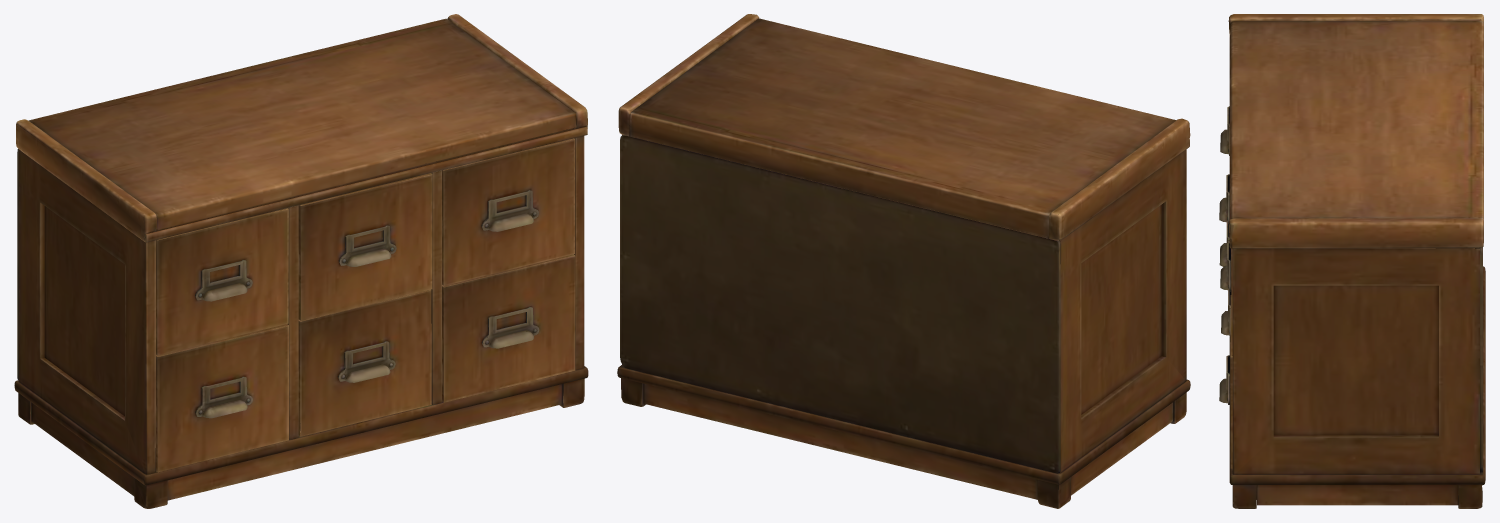
File: vintage_wooden_drawer_01.glb
The picture shows the model from 3 angles, left to right: view 1: azimuth 30°, elevation 25°; view 2: azimuth 150°, elevation 25°; view 3: azimuth 270°, elevation 25°; orthographic projection. The views are drawn at different scales.
Parts seen in each view (by area): view 1: vintage_wooden_drawer_01_body, vintage_wooden_drawer_01_drawer02, vintage_wooden_drawer_01_drawer06, vintage_wooden_drawer_01_drawer04, vintage_wooden_drawer_01_drawer03, vintage_wooden_drawer_01_drawer05, vintage_wooden_drawer_01_drawer01; view 2: vintage_wooden_drawer_01_body; view 3: vintage_wooden_drawer_01_body, vintage_wooden_drawer_01_drawer06, vintage_wooden_drawer_01_drawer03, vintage_wooden_drawer_01_drawer02.
Boxes of the visible parts, x1,y1,x2,y2 form: vintage_wooden_drawer_01_body: (14,14,588,508); vintage_wooden_drawer_01_drawer02: (298,173,432,320); vintage_wooden_drawer_01_drawer06: (442,254,575,402); vintage_wooden_drawer_01_drawer04: (156,324,288,472); vintage_wooden_drawer_01_drawer03: (442,138,575,285); vintage_wooden_drawer_01_drawer05: (298,289,431,436); vintage_wooden_drawer_01_drawer01: (156,208,288,355); vintage_wooden_drawer_01_body: (617,14,1190,508); vintage_wooden_drawer_01_body: (1228,14,1485,508); vintage_wooden_drawer_01_drawer06: (1219,295,1232,468); vintage_wooden_drawer_01_drawer03: (1220,242,1232,355); vintage_wooden_drawer_01_drawer02: (1219,174,1229,223).
Bounding box in the file's own units: 0.8576 × 0.5456 × 0.4579.
1 material, 1 textured.
